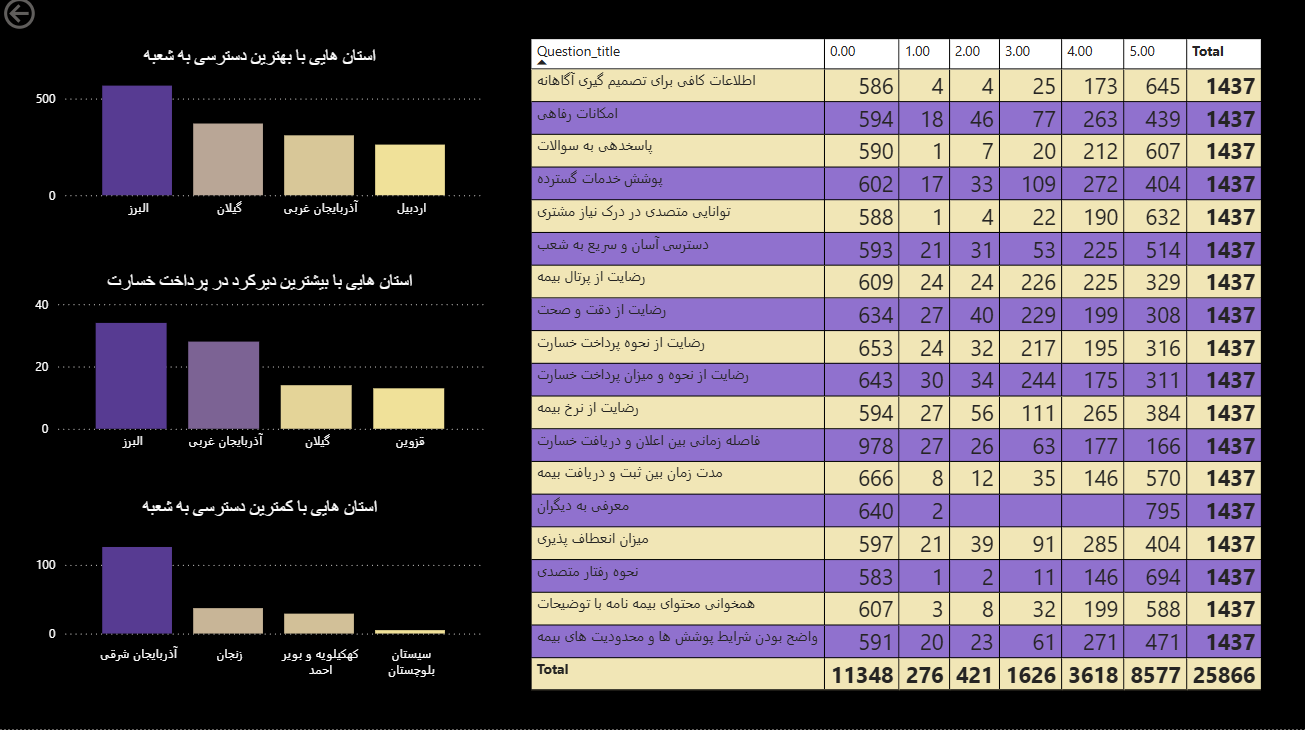

This screenshot's page, from the dashboard's own definition file:
{"tool":"powerbi","page":{"name":"ranking","canvas":[1280,720],"ordinal":2},"visuals":[{"type":"columnChart","title":"استان هایی با بیشترین دیرکرد در پرداخت خسارت","fields":{"Category":["FACT_DATA.استان"],"Y":["CountNonNull(FACT_DATA.فاصله بین اعلام تا پرداخت خسارت)"]},"box":[30.6,271.3,449.4,185],"z":0},{"type":"columnChart","title":"استان هایی با بهترین دسترسی به شعبه","fields":{"Category":["FACT_DATA.استان"],"Y":["Sum(FACT_DATA.9)"]},"box":[30.6,51.5,449.4,176.7],"z":1000},{"type":"columnChart","title":"استان هایی با کمترین دسترسی به شعبه","fields":{"Category":["FACT_DATA.استان"],"Y":["Sum(FACT_DATA.9)"]},"box":[30.6,492.5,449.4,185],"z":2000},{"type":"actionButton","box":[0,0,100,40],"z":3000},{"type":"pivotTable","fields":{"Rows":["Question_Dim.Question_title"],"Columns":["FACT_QUESTIONS.Answer"],"Values":["my_measures.Answer Count"]},"box":[516.2,40.3,731.8,647],"z":4000}]}

Visuals, with their boxes in screenshot pixels (x1, y1, x2, y2), scaled from the page's 1280x720 canvas onto the 1305x730 screenshot:
"استان هایی با بیشترین دیرکرد در پرداخت خسارت" columnChart: bbox(31, 275, 489, 463)
"استان هایی با بهترین دسترسی به شعبه" columnChart: bbox(31, 52, 489, 231)
"استان هایی با کمترین دسترسی به شعبه" columnChart: bbox(31, 499, 489, 687)
actionButton: bbox(0, 0, 102, 41)
pivotTable - Question_Dim.Question_title x FACT_QUESTIONS.Answer: bbox(526, 41, 1272, 697)
